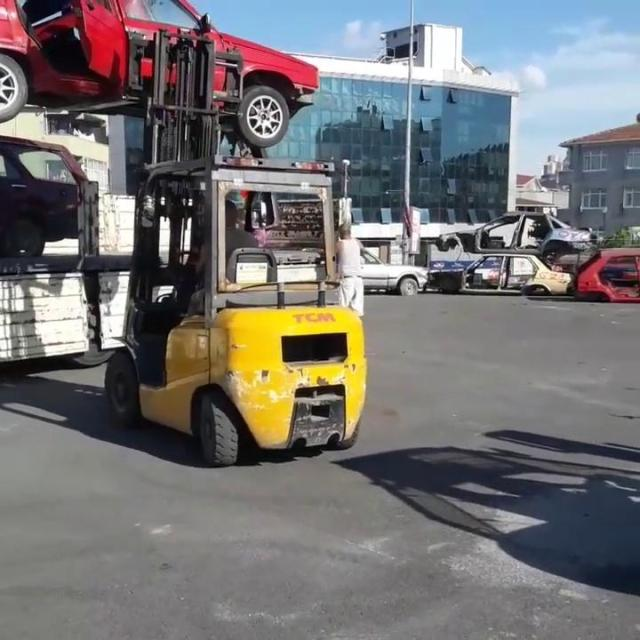forklift: (149, 69, 367, 466)
person: (191, 192, 279, 295), (333, 212, 377, 326)
